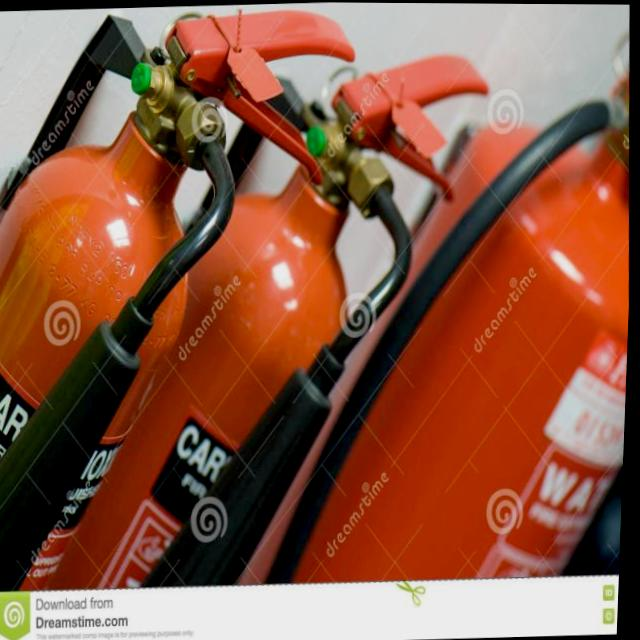FireExtinguisher: (7, 43, 518, 592), (0, 0, 381, 595), (243, 39, 639, 585)
